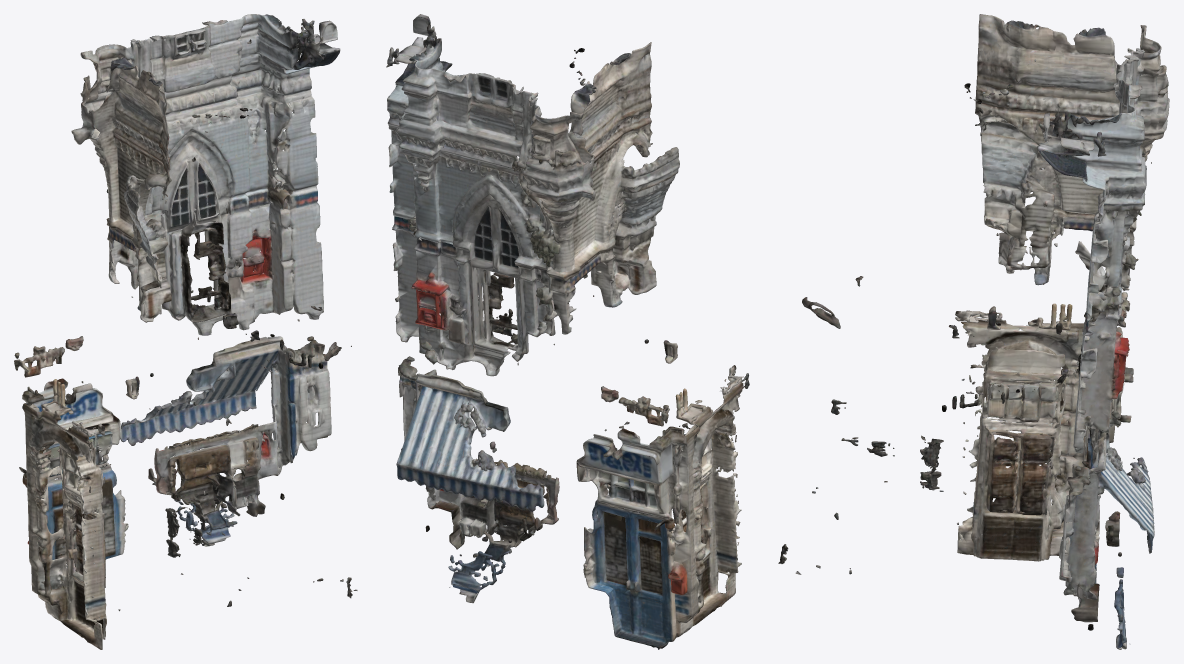
File: pixal3d.glb
3 views of the same model, side by side, from view 1: azimuth 30°, elevation 25°; view 2: azimuth 150°, elevation 25°; view 3: azimuth 270°, elevation 25° (orthographic). The views are drawn at different scales.
Parts seen in each view (by area): view 1: geometry_0; view 2: geometry_0; view 3: geometry_0.
Part boxes in pixels (x1,y1,x2,y2): geometry_0: [14, 14, 357, 649]; geometry_0: [386, 14, 749, 649]; geometry_0: [778, 14, 1169, 649].
Bounding box in the file's own units: 0.4929 × 0.8694 × 0.5203.
Materials: 1 (1 with a texture image).
